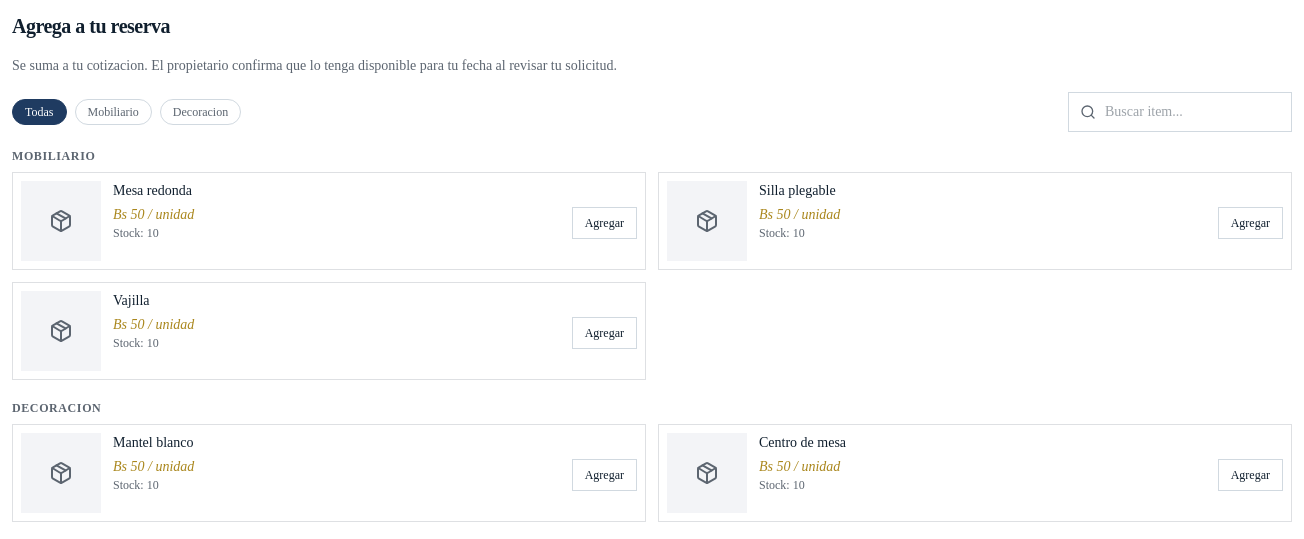
VenueRentalItemCatalog › filtra por categoria al hacer click en una pildora
expect the text "Mesa redonda" is shown: met, box [113,183,192,198]
Click the button "Decoracion" at (200, 112), box [160,99,241,125]
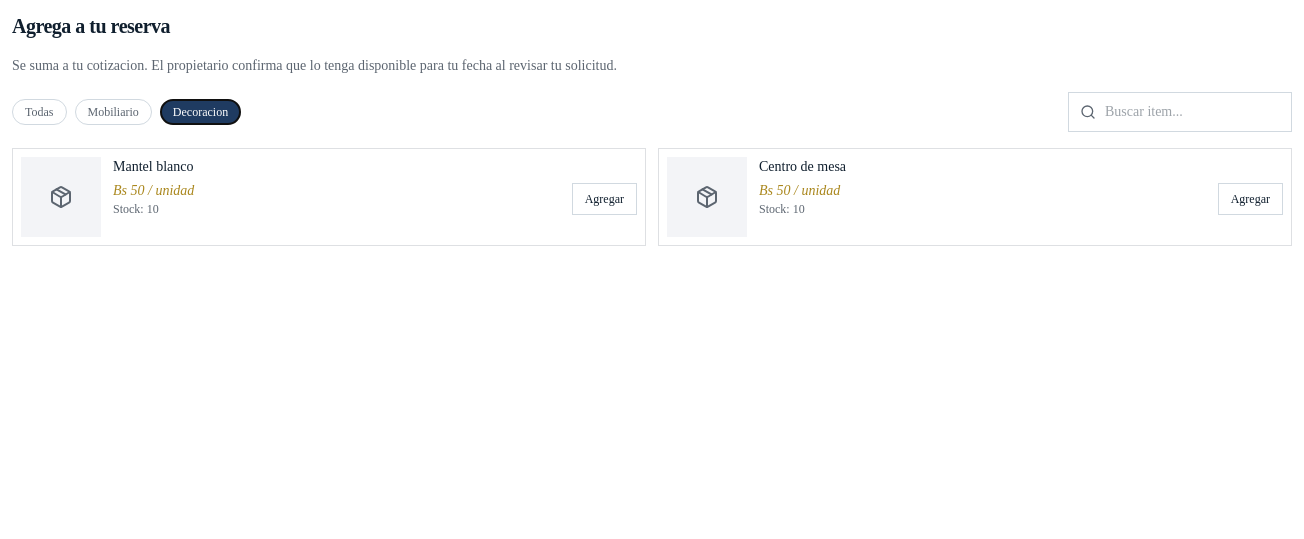
expect the text "Mantel blanco" is shown: met, box [113,159,194,174]
expect the text "Mesa redonda" is gone: met
